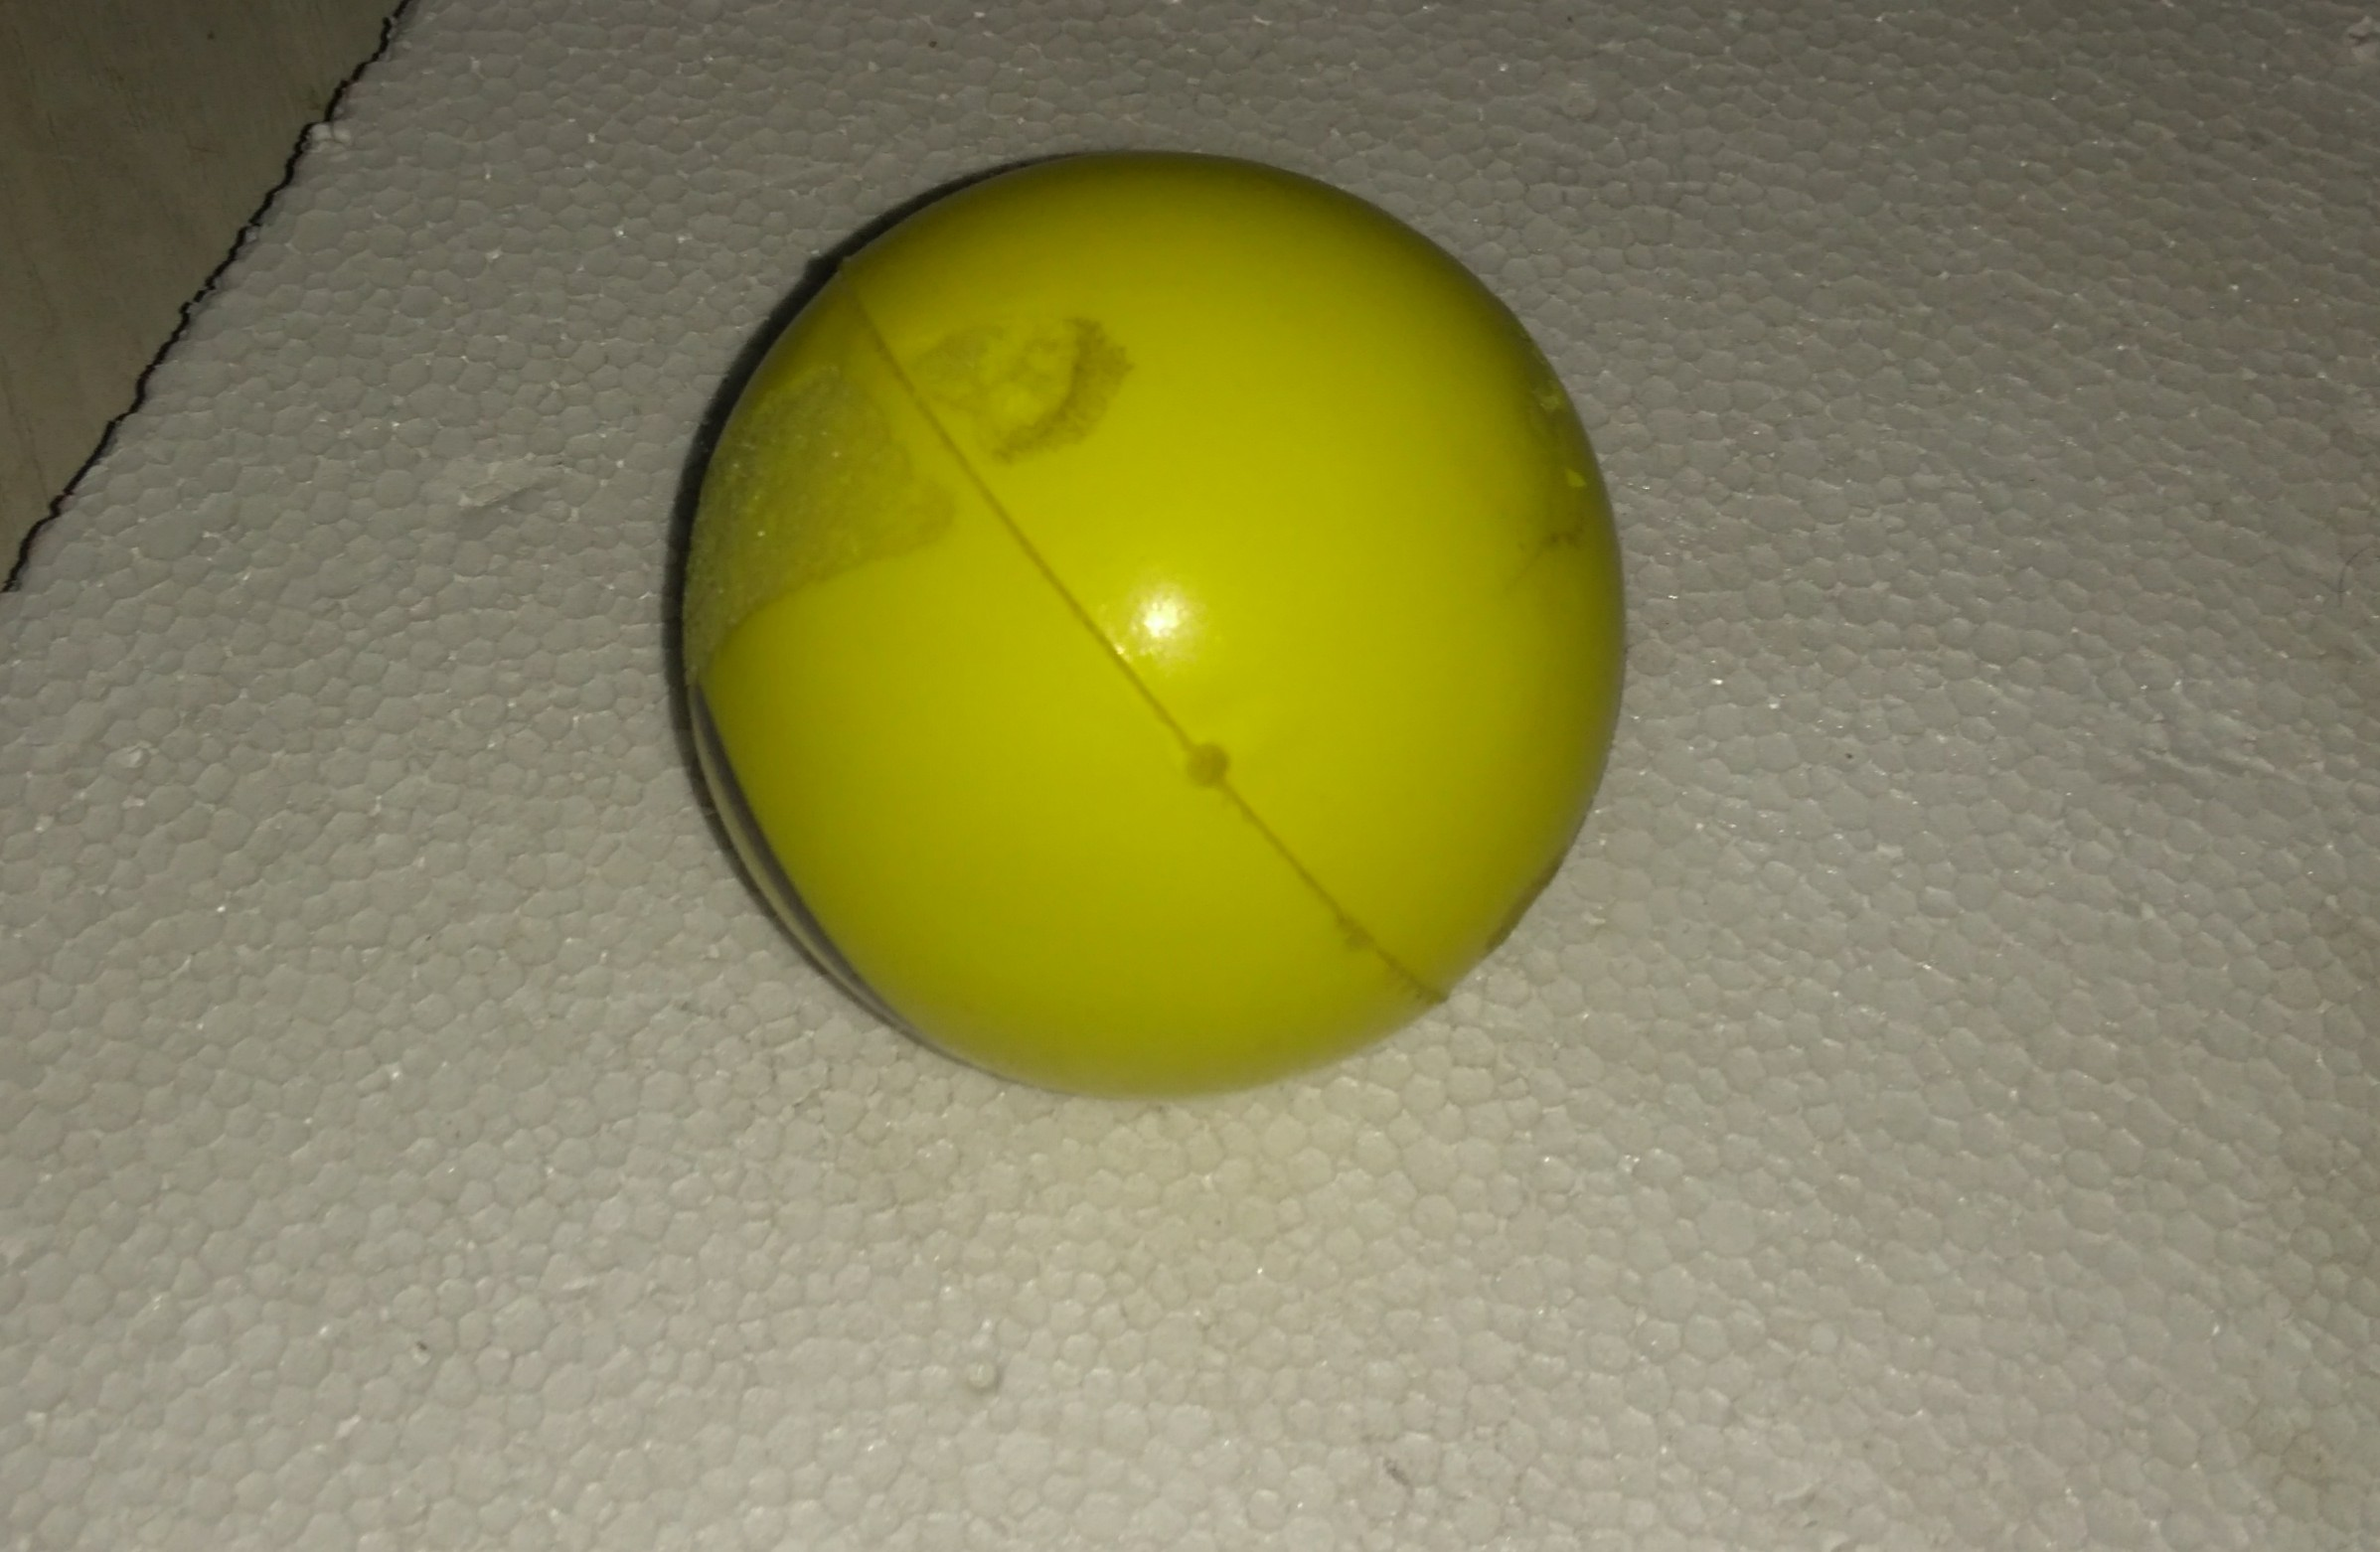ball: (671, 151, 1629, 1122)
